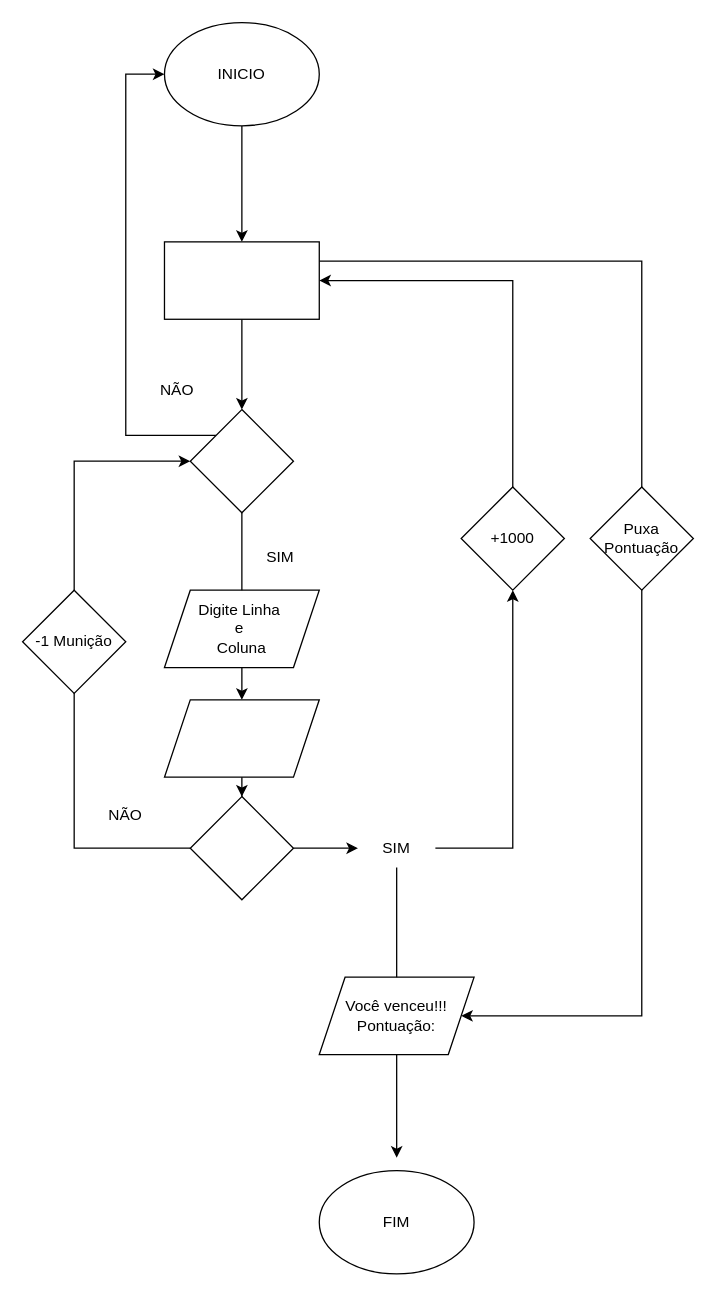
Image size: 716x1296. Some labels were removed from this diagram. Here are the shapes that lost their labels. From the top down, the centre of each, then its label:
the point at 241,280: Pontuação
the point at 241,460: Total: 5 Munição é Maior>0
the point at 241,738: FOGO!!!
the point at 241,847: Acertou o Alvo?
